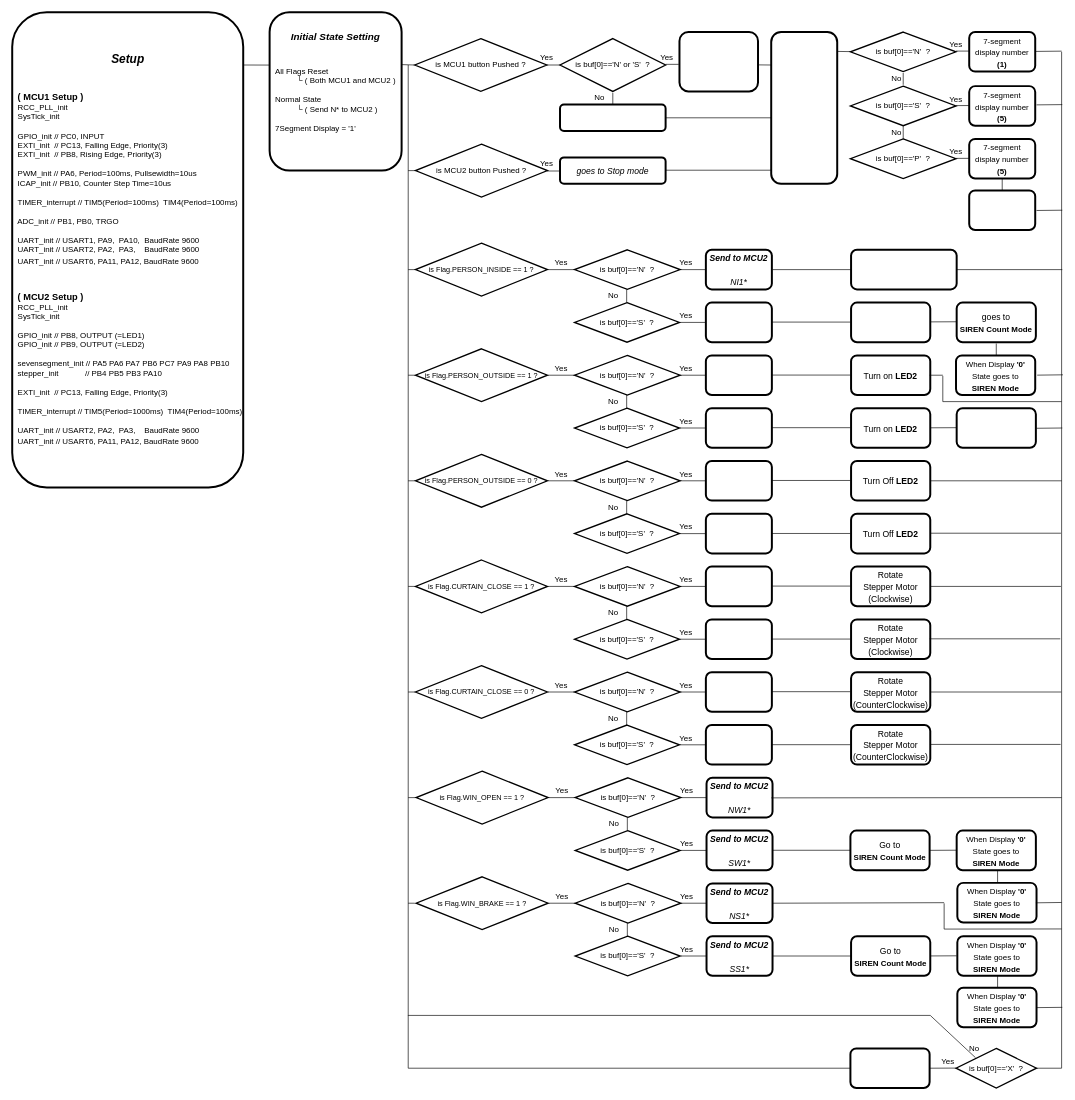
Image size: 1075x1100. Some labels were removed from this diagram. Each missing label, with the centre of its shape:
"7-segment display BLINK" goes at pixel 889 1068.
"goes to Security mode" goes at pixel 612 117.
"Mode Toggle Normal ↔ Security" goes at pixel 718 61.
"Send to MCU2 Current Mode" goes at pixel 804 107.
"Send to MCU2 NC0*" goes at pixel 739 691.
"Send to MCU2 NC1*" goes at pixel 739 586.
"Send to MCU2 NO0*" goes at pixel 739 480.
"Send to MCU2 NO1*" goes at pixel 739 375.
"Send to MCU2 SC0*" goes at pixel 739 744.
"Send to MCU2 SC1*" goes at pixel 739 639.
"Send to MCU2 SI1*" goes at pixel 739 322.
"Send to MCU2 SO0*" goes at pixel 739 533.
"Send to MCU2 SO1*" goes at pixel 739 427.
"Send VISITOR LOG to Server" goes at pixel 996 427.
"Turn Off ALL LED" goes at pixel 1002 210.
"Turn on LED1" goes at pixel 890 322.
"Turn on LED1 for 3sec" goes at pixel 903 269.
